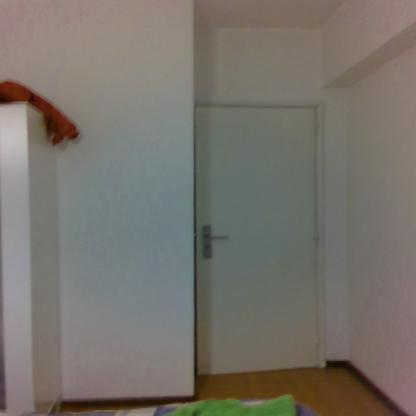door: (195, 107, 320, 372)
hinged: (313, 121, 321, 136), (313, 231, 320, 247), (316, 336, 322, 352)
lever: (206, 232, 230, 242)
